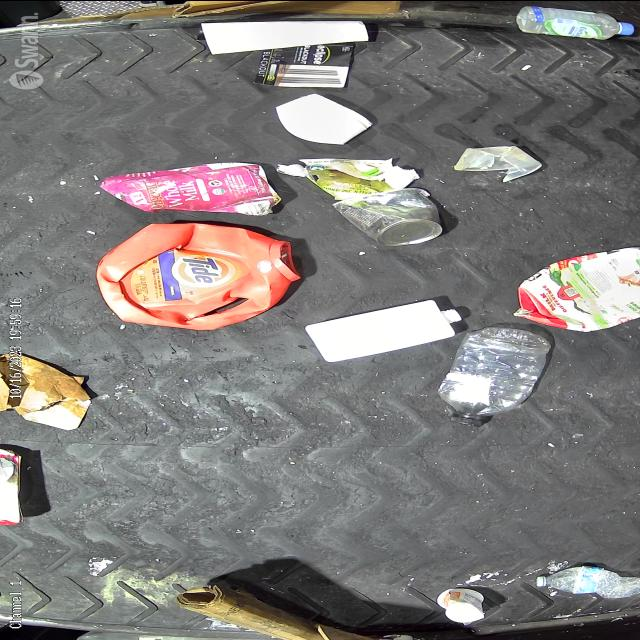can: (324, 183, 458, 249)
non_white_jug: (96, 215, 306, 332)
plastic_bottle: (422, 319, 556, 431), (524, 559, 640, 605), (508, 0, 639, 38)
